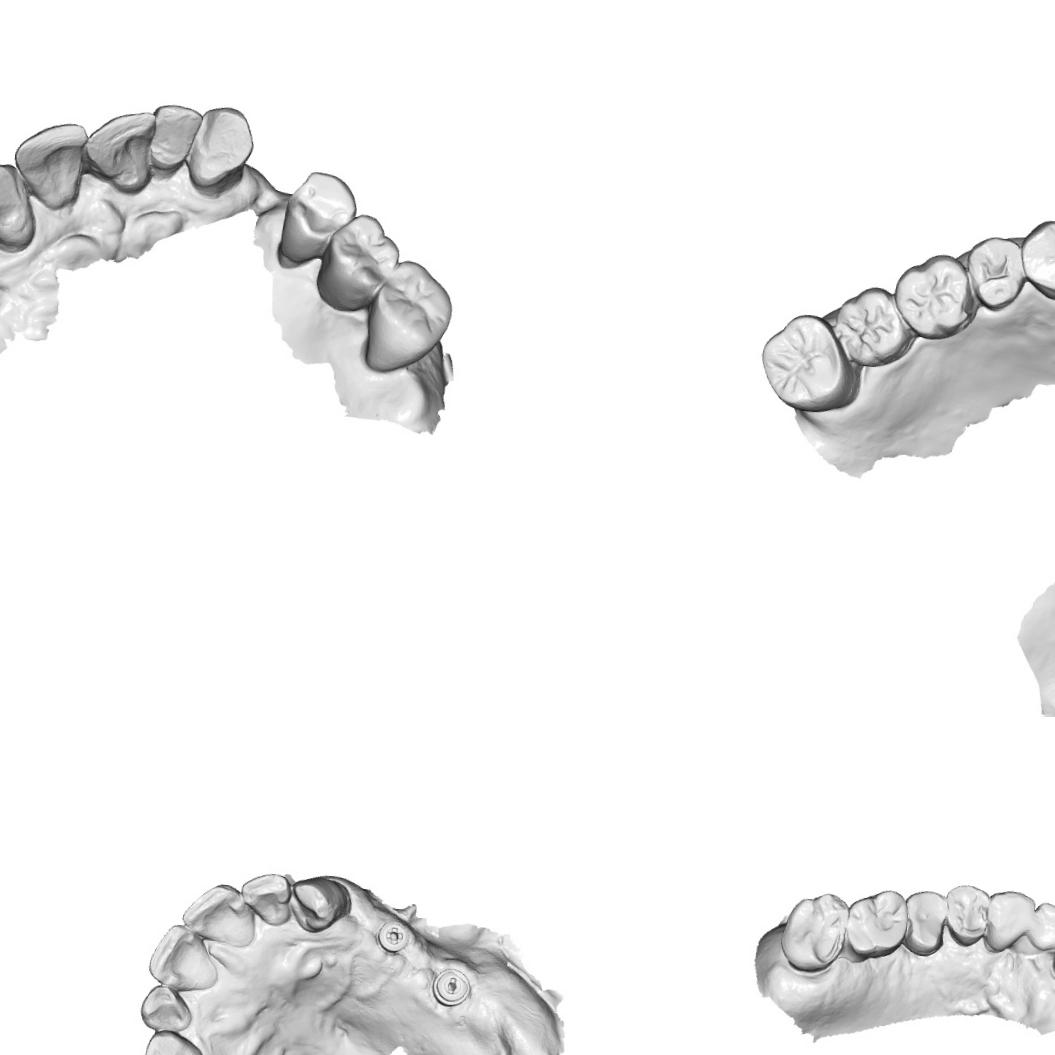canine: (182, 101, 255, 193), (285, 871, 354, 936), (981, 888, 1038, 956), (0, 160, 42, 252), (139, 1026, 209, 1055)
implant_minus: (429, 965, 472, 1009)
implant_plus: (373, 917, 412, 956)
incisor: (7, 116, 88, 213), (78, 105, 160, 191), (178, 878, 260, 949), (144, 920, 222, 994), (146, 99, 204, 177), (235, 868, 294, 930), (136, 982, 195, 1034), (1028, 899, 1055, 959)
molar: (755, 308, 856, 416), (822, 278, 918, 373), (365, 254, 458, 352), (888, 248, 980, 344), (322, 208, 404, 300), (776, 888, 851, 977), (841, 885, 911, 961)
premolar: (276, 167, 360, 254), (960, 227, 1028, 312), (1015, 214, 1055, 304), (901, 887, 949, 960), (941, 880, 990, 948)
